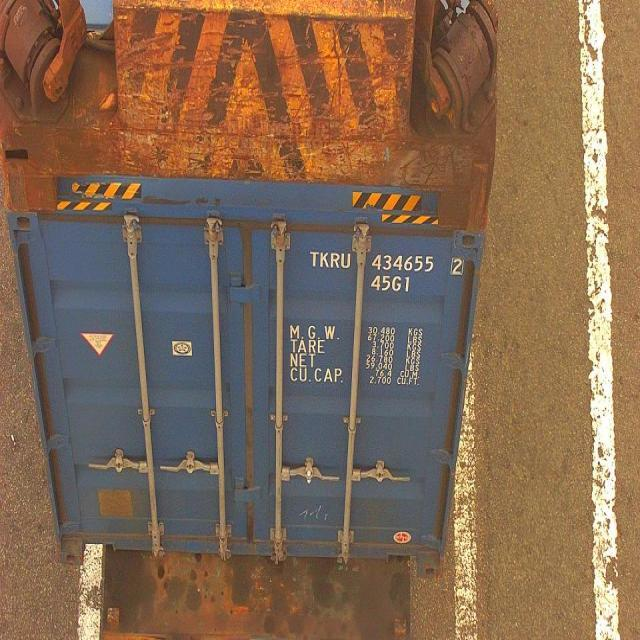ISO: (370, 273, 414, 295)
container_number: (307, 246, 467, 277)
